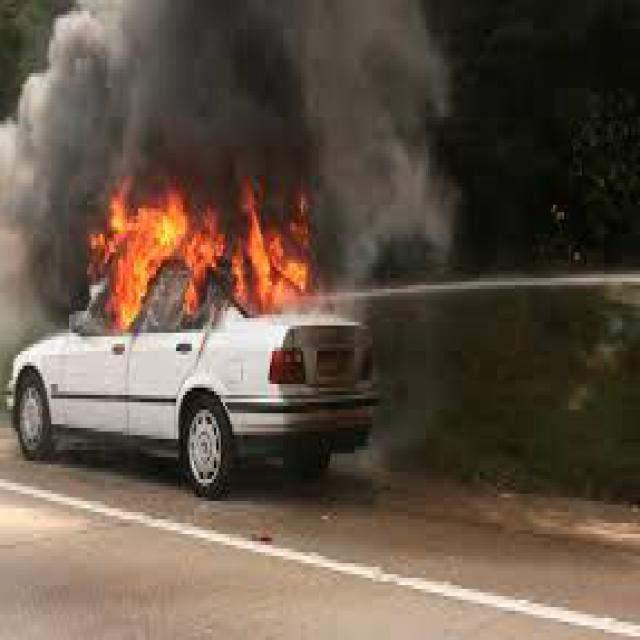Fire: (82, 175, 335, 338)
Smoke: (5, 8, 422, 224)
